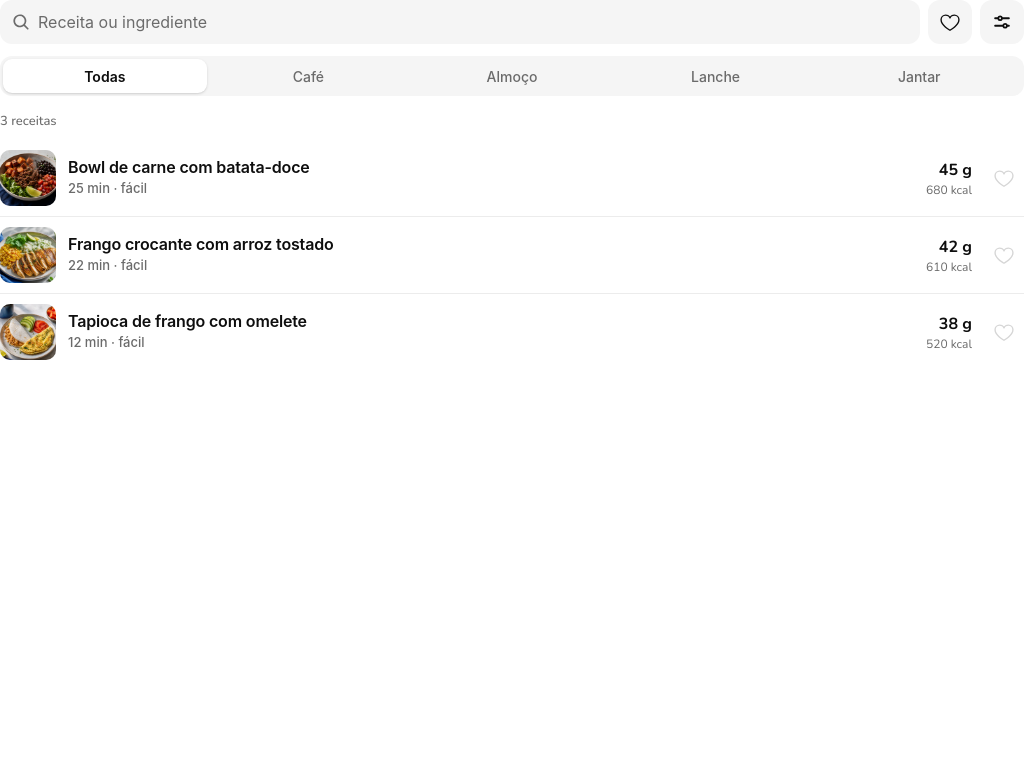
Test: Library › tempo e proteína ficam na folha de filtros; aplicar mostra o resultado e a contagem no botão
Click the button named "Filtros" at (1002, 22), box [980,0,1023,44]
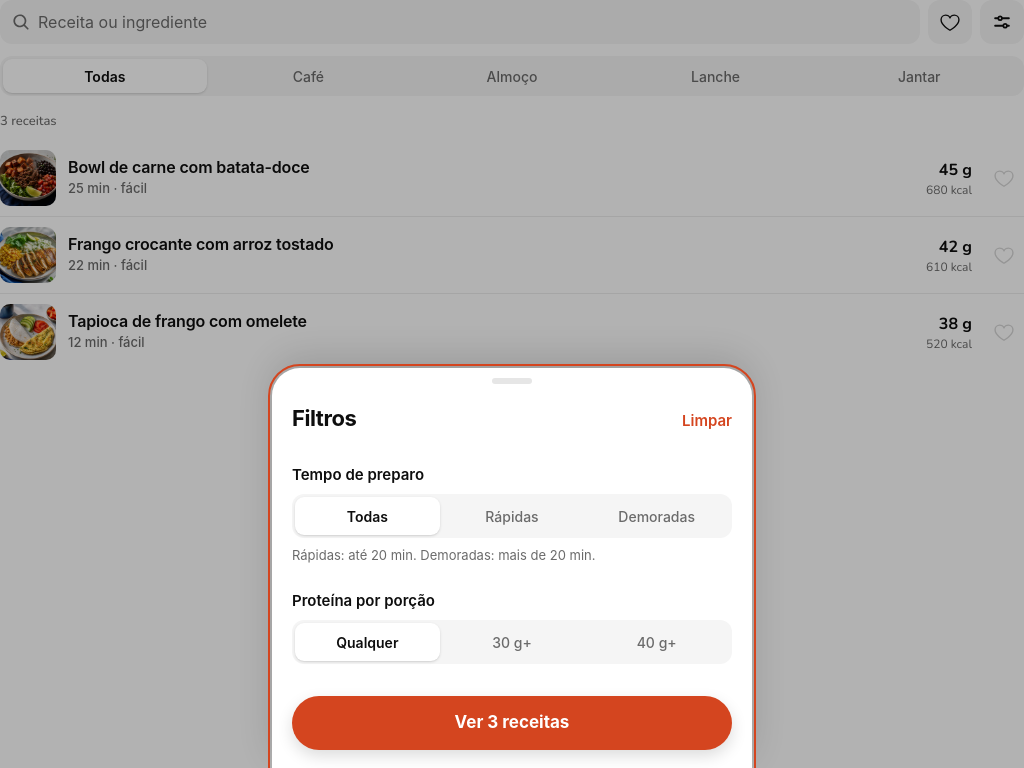
Expected: the text "Rápidas: até 20 min. Demoradas: mais de 20 min." is shown, [292,547,596,563]
Click the radio button labelled "Rápidas" at (512, 516), box [440,497,584,535]
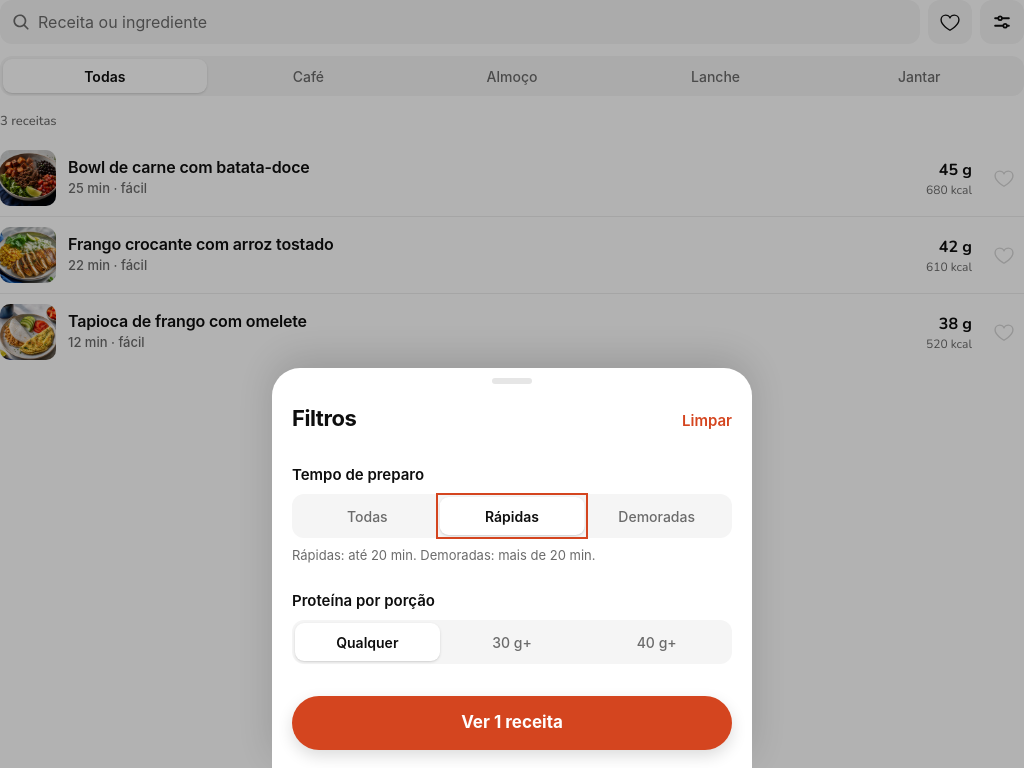
Expected: the button "Ver 1 receita" is shown
Click the button "Ver 1 receita" at (512, 723), box [292,696,732,750]
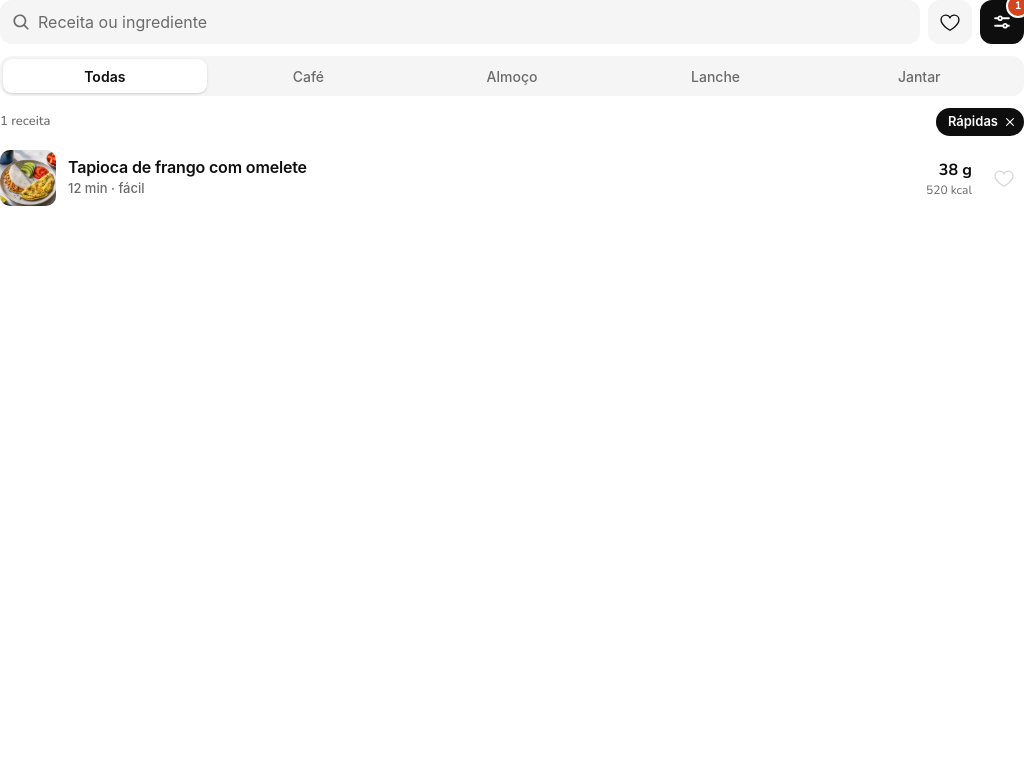
Expected: the dialog is gone
Expected: the button named "Filtros, 1 ativo" is shown, [980,0,1023,44]
